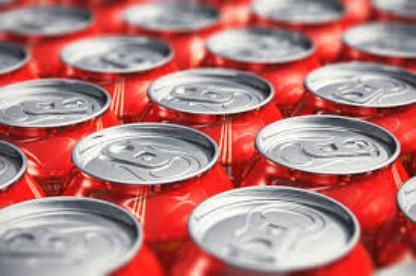Can: (56, 116, 242, 266), (236, 112, 408, 252), (165, 183, 373, 275), (126, 65, 282, 181), (280, 59, 414, 160), (0, 78, 124, 184), (0, 195, 164, 275), (47, 28, 186, 112), (195, 24, 325, 110), (330, 20, 414, 72), (0, 136, 58, 208), (374, 175, 414, 274), (0, 40, 46, 80)
